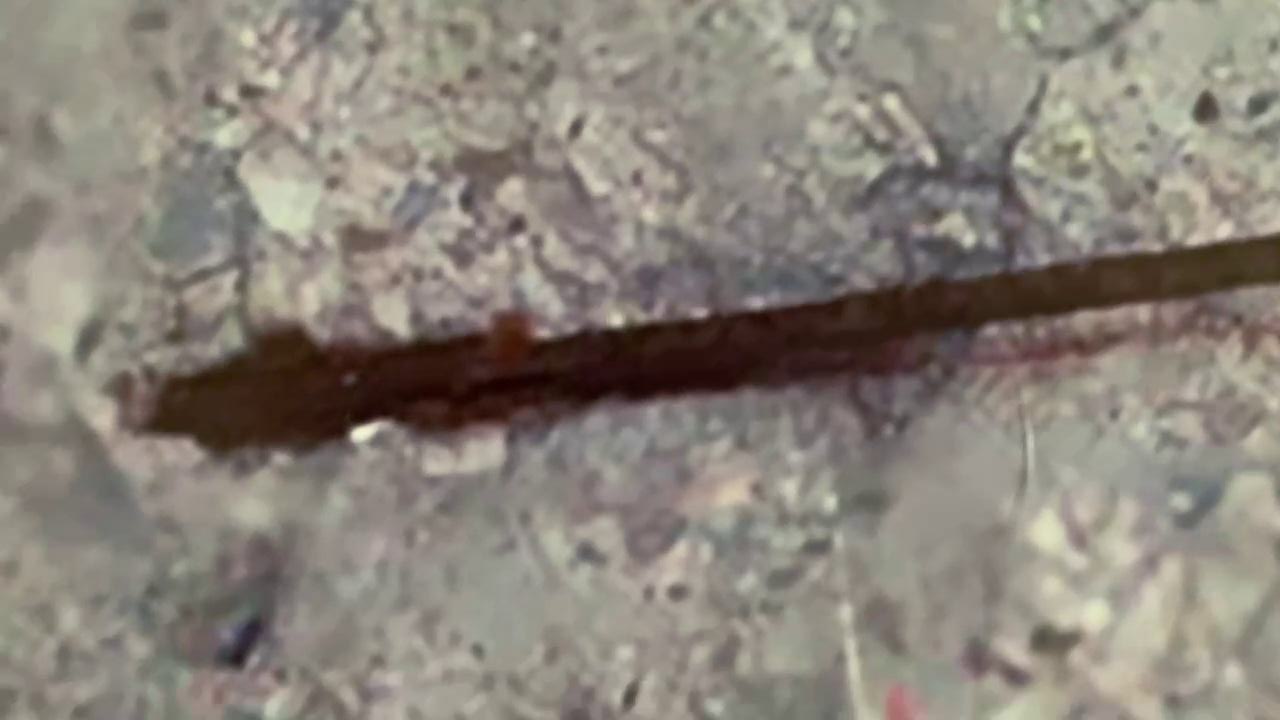Exposed reinforcement: (131, 235, 1280, 461)
